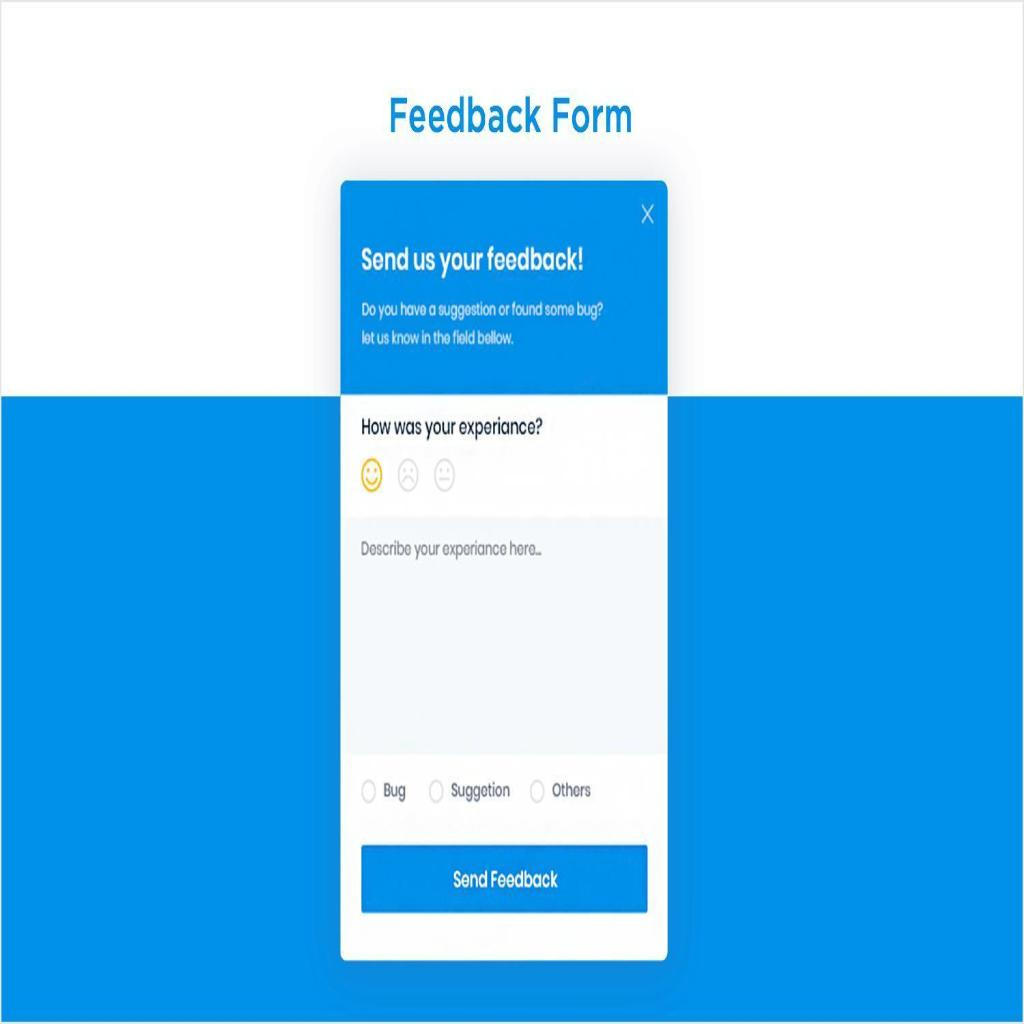button: (360, 844, 648, 913)
label: (359, 239, 587, 283), (358, 536, 550, 565), (360, 413, 545, 438), (450, 780, 510, 802), (553, 781, 590, 799), (384, 780, 408, 800)
radio: (360, 778, 378, 802), (529, 778, 546, 802), (429, 780, 443, 802)
